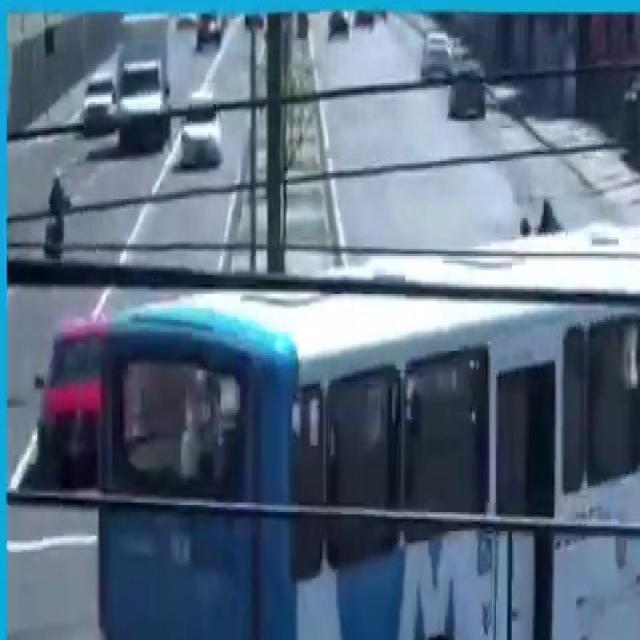car: (34, 313, 102, 475), (179, 91, 231, 171), (75, 60, 113, 145)
truck: (100, 218, 640, 640), (115, 15, 177, 147)
